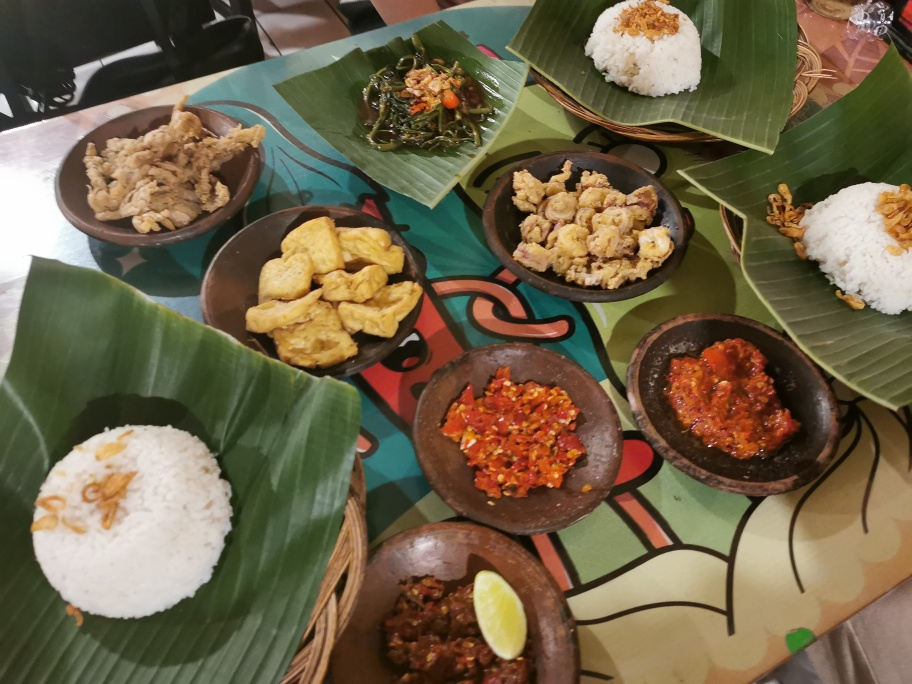nasi putih: (27, 422, 232, 619), (801, 178, 912, 314), (590, 1, 703, 99)
